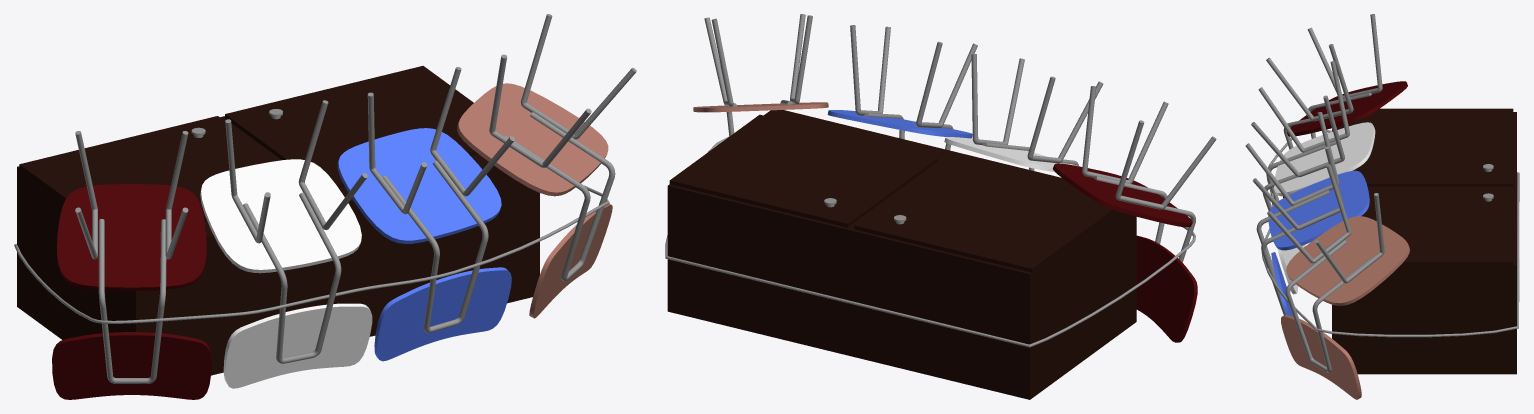
The model's file is Hedgehog.FBX.
The picture shows the model from 3 angles, left to right: view 1: azimuth 30°, elevation 25°; view 2: azimuth 150°, elevation 25°; view 3: azimuth 270°, elevation 25°; orthographic projection. The views are drawn at different scales.
Visible parts, largest first — view 1: Cylinder002; view 2: Cylinder002; view 3: Cylinder002.
Boxes of the visible parts, bbox=[...] form: Cylinder002: bbox=[14, 14, 636, 399]; Cylinder002: bbox=[665, 14, 1216, 399]; Cylinder002: bbox=[1245, 14, 1519, 399].
Size of the model in its own units: 1986 by 842 by 1071.
